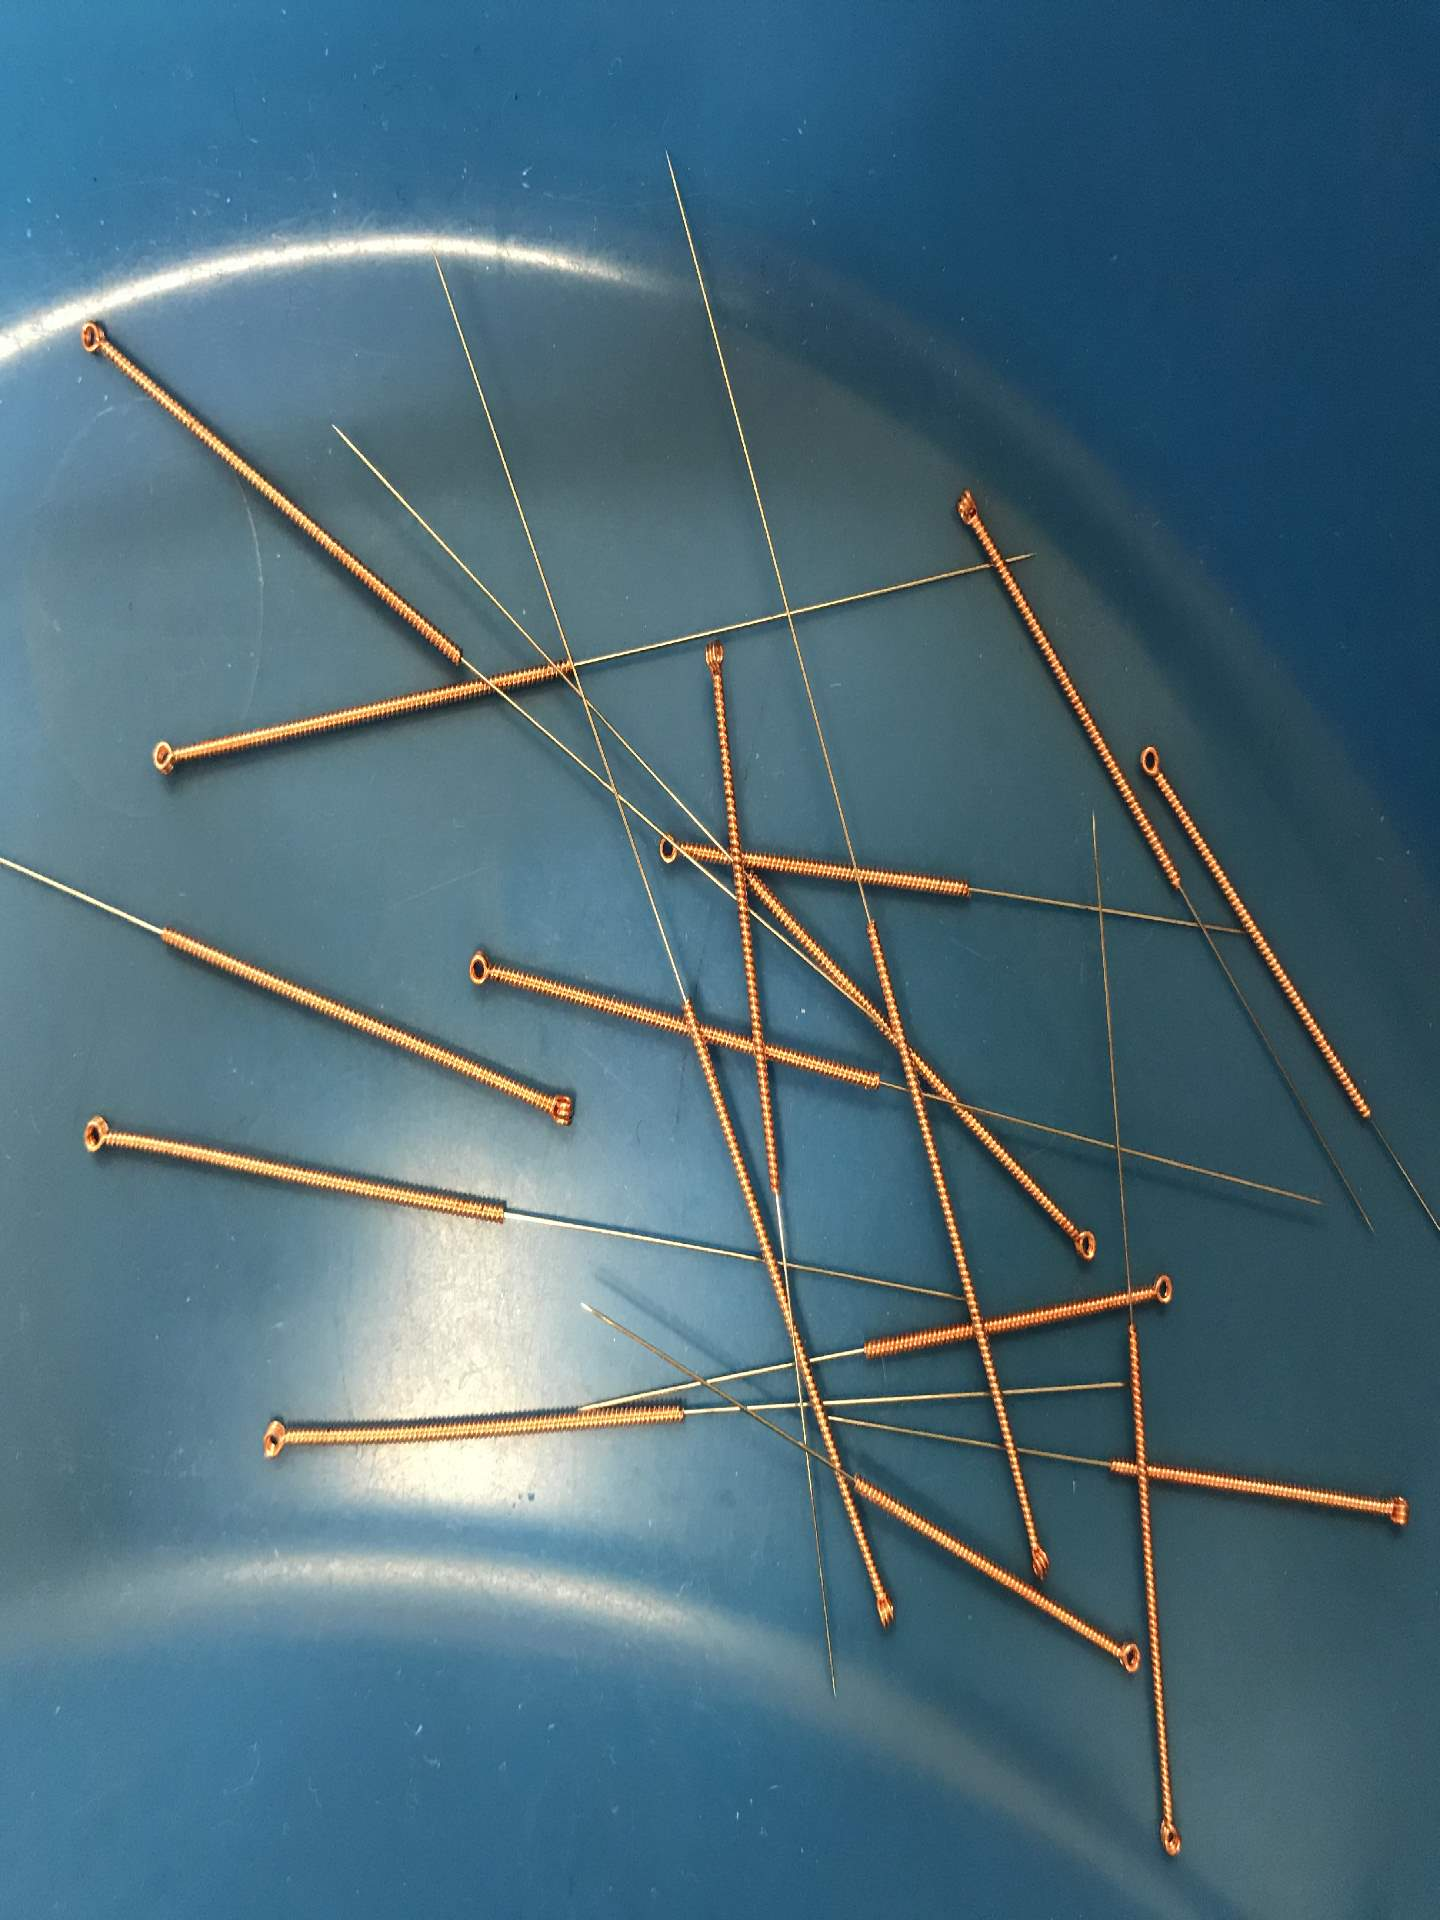needle: (525, 1079, 594, 1144), (64, 1104, 127, 1172), (244, 1407, 304, 1476), (1054, 1206, 1112, 1276), (1364, 1477, 1422, 1544), (64, 307, 121, 372), (135, 727, 194, 789), (452, 937, 508, 999), (856, 1580, 911, 1643), (941, 479, 992, 544), (1144, 1804, 1190, 1872), (1130, 729, 1175, 795), (646, 825, 694, 881), (1018, 1525, 1062, 1584), (693, 633, 738, 689), (1103, 1630, 1145, 1689), (1136, 1264, 1184, 1315)
